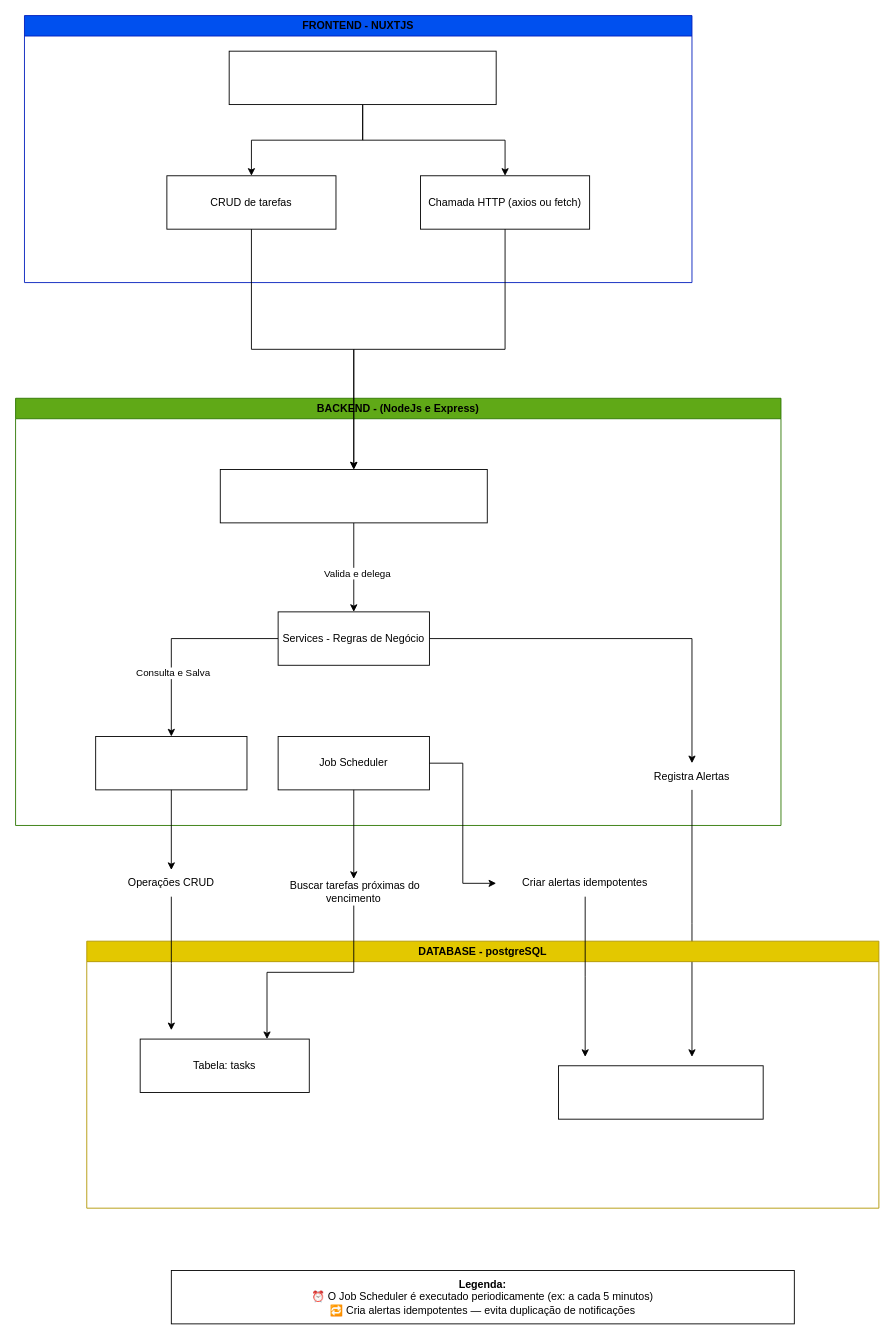
The diagram is 894 pixels wide and 1339 high, and some of its shapes have lost their labels. Each missing label, with the centre of its shape:
Controllers - Rotas REST: (353,496)
Repository - ORM Prisma: (171,763)
Tabela: notifications Constraint UNIQUE: task_id + type: (660,1092)
Tarefas: Listar / Criar / Editar: (362,77)
